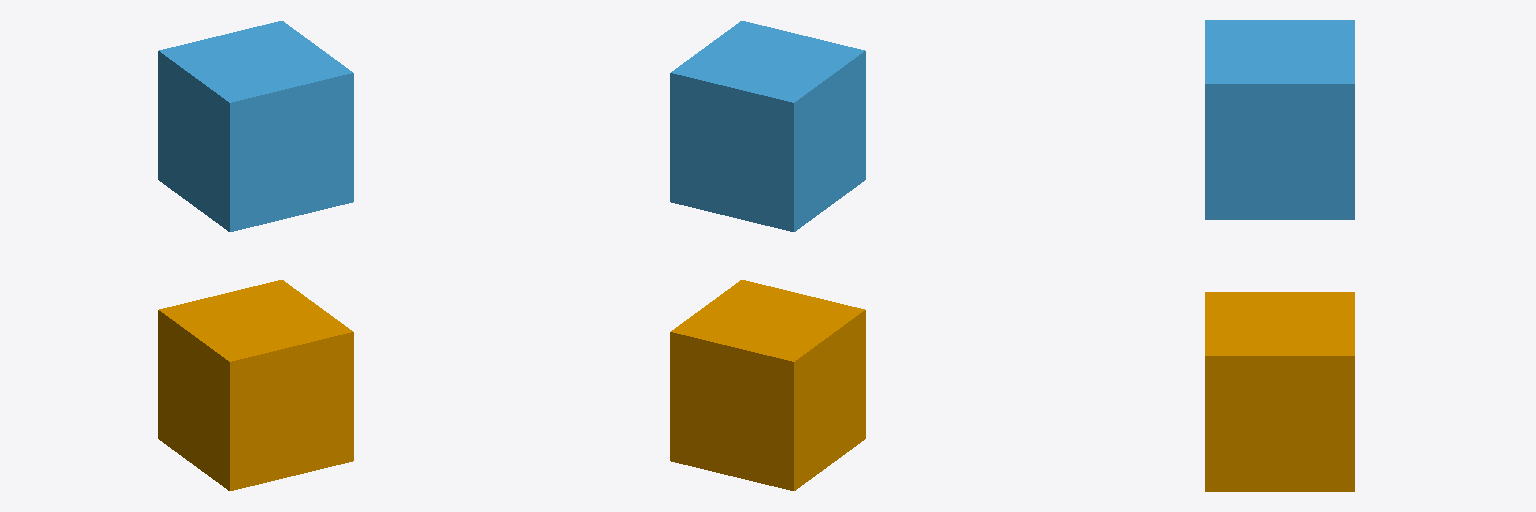
robot.urdf — inertia_large_degenerate:
<?xml version="1.0"?>
<robot name="inertia_large_degenerate">
  <!--
    Purpose: verify large-magnitude degenerate inertia with non-identity origin.rpy.
    - link_isotropic_large: fully isotropic (ixx = iyy = izz); principalAxes → identity.
    - link_pair_degenerate_large: pair-degenerate (ixx = iyy != izz); principalAxes
      stay scale-invariant under body-frame rotation (degeneracy tolerance scales with |I|).
  -->
  <link name="link_isotropic_large">
    <inertial>
      <origin xyz="0 0 0" rpy="0.37 1.02 -2.9"/>
      <mass value="1.0"/>
      <inertia ixx="2000000.0" ixy="0.0" ixz="0.0" iyy="2000000.0" iyz="0.0" izz="2000000.0"/>
    </inertial>
    <visual>
      <geometry>
        <box size="0.1 0.1 0.1"/>
      </geometry>
    </visual>
  </link>
  <link name="link_pair_degenerate_large">
    <inertial>
      <origin xyz="0 0 0" rpy="0.37 1.02 -2.9"/>
      <mass value="1.0"/>
      <inertia ixx="2000000.0" ixy="0.0" ixz="0.0" iyy="2000000.0" iyz="0.0" izz="4000000.0"/>
    </inertial>
    <visual>
      <geometry>
        <box size="0.1 0.1 0.1"/>
      </geometry>
    </visual>
  </link>
  <joint name="joint_isotropic_to_pair" type="fixed">
    <origin xyz="0 0 0.2" rpy="0 0 0"/>
    <parent link="link_isotropic_large"/>
    <child link="link_pair_degenerate_large"/>
  </joint>
</robot>

--- What the picture shows (computed from the rendered views, not written in the file) ---
3 views of the same robot in one strip: view 1: azimuth 30°, elevation 25°; view 2: azimuth 150°, elevation 25°; view 3: azimuth 270°, elevation 25° (orthographic).
Robot: inertia_large_degenerate — 2 links, 1 joints (1 fixed); root link link_isotropic_large; default pose: every joint at zero.
Links seen in each view (by area): view 1: link_isotropic_large, link_pair_degenerate_large; view 2: link_isotropic_large, link_pair_degenerate_large; view 3: link_isotropic_large, link_pair_degenerate_large.
Boxes of the visible links, left/top/right/bottom form: link_isotropic_large: left=158, top=280, right=353, bottom=490; link_pair_degenerate_large: left=158, top=21, right=353, bottom=231; link_isotropic_large: left=670, top=280, right=865, bottom=490; link_pair_degenerate_large: left=670, top=21, right=865, bottom=231; link_isotropic_large: left=1205, top=292, right=1354, bottom=491; link_pair_degenerate_large: left=1205, top=20, right=1354, bottom=219.
Bounding box of the posed robot: 0.1 × 0.1 × 0.3 m (x, y, z).
Geometry: primitives only (box / cylinder / sphere), no mesh files.
